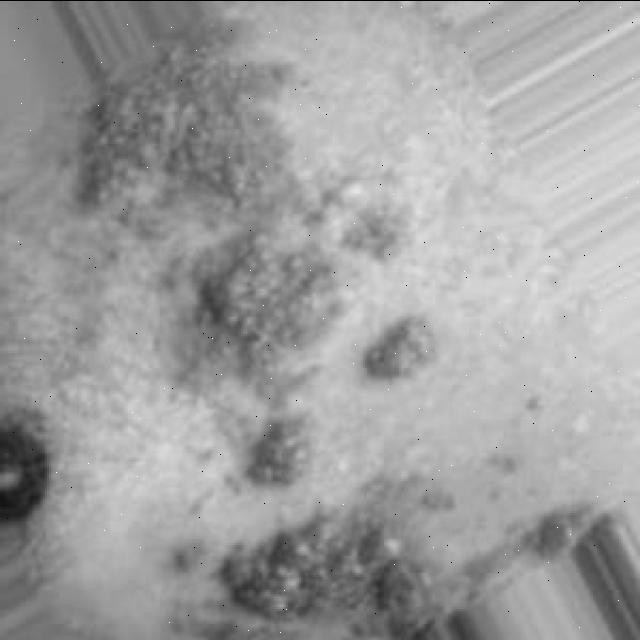Shingles: (83, 56, 348, 483), (169, 503, 433, 640), (362, 310, 438, 387)
